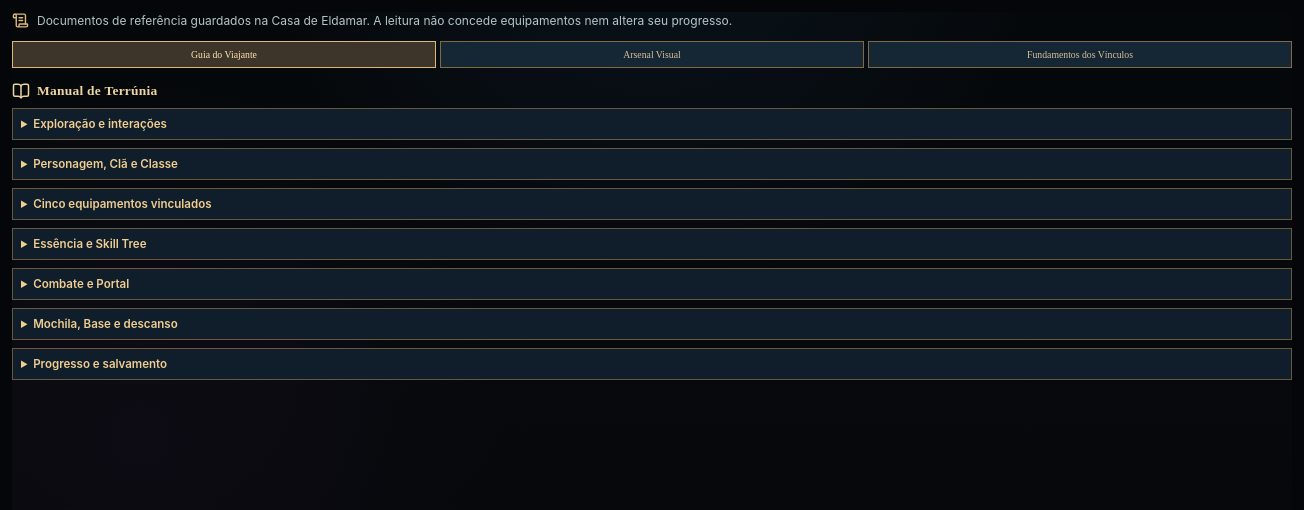
Estante dos Registros de Eldamar › concentra as informações de suporte e o Arsenal Visual sem tocar na progressão
Expected: the heading "Manual de Terrúnia" is shown, [12, 82, 158, 100]
Expected: the heading "Essência e Skill Tree" is shown, [33, 237, 146, 251]
Click the button "Arsenal Visual": (652, 54) [440, 41, 864, 68]
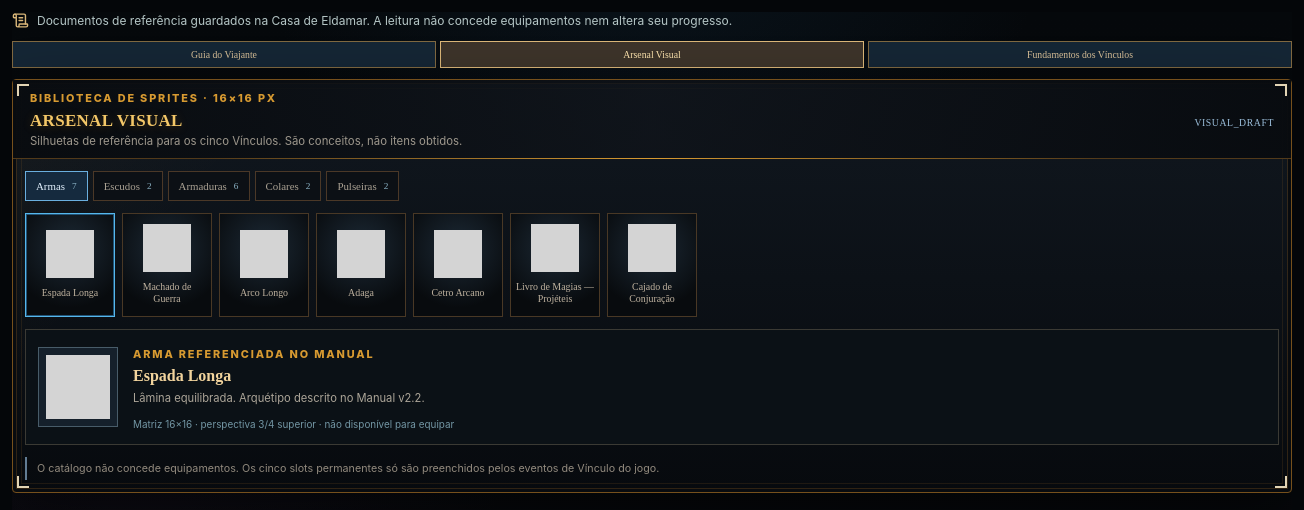
Result: the text "BIBLIOTECA DE SPRITES · 16×16 PX" is shown at [30, 91, 277, 105]
Result: the element named "Tipos de equipamento" is shown at [25, 171, 399, 201]
Click the button "Fundamentos dos Vínculos": (1080, 54) [868, 41, 1292, 68]
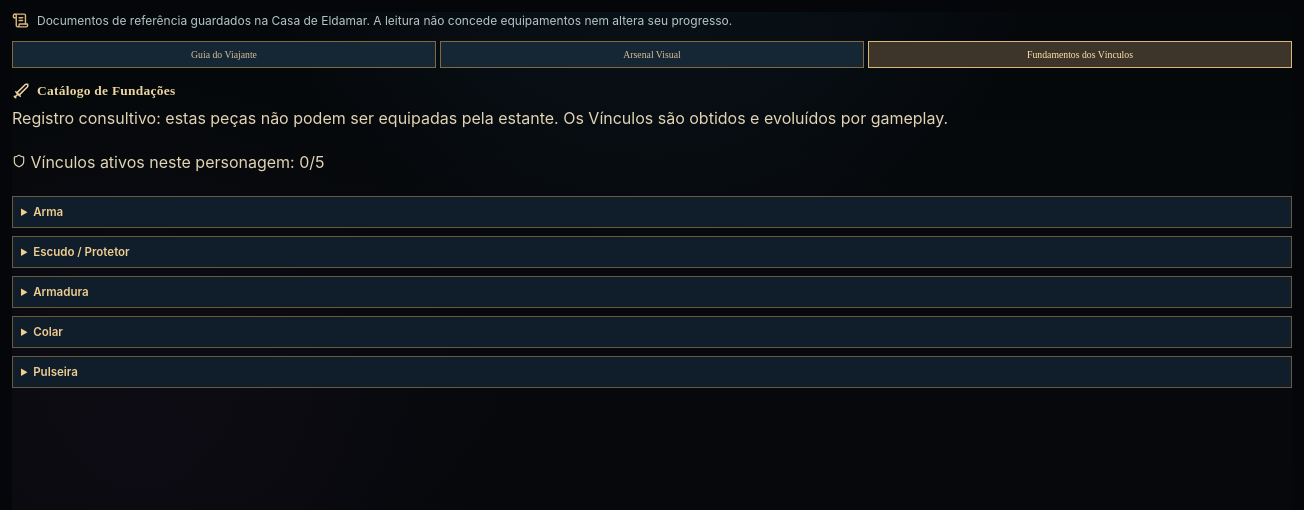
Result: the heading "Catálogo de Fundações" is shown at [12, 82, 176, 100]
Result: the text "Vínculos ativos neste personagem: 0/5" is shown at [12, 152, 325, 172]
